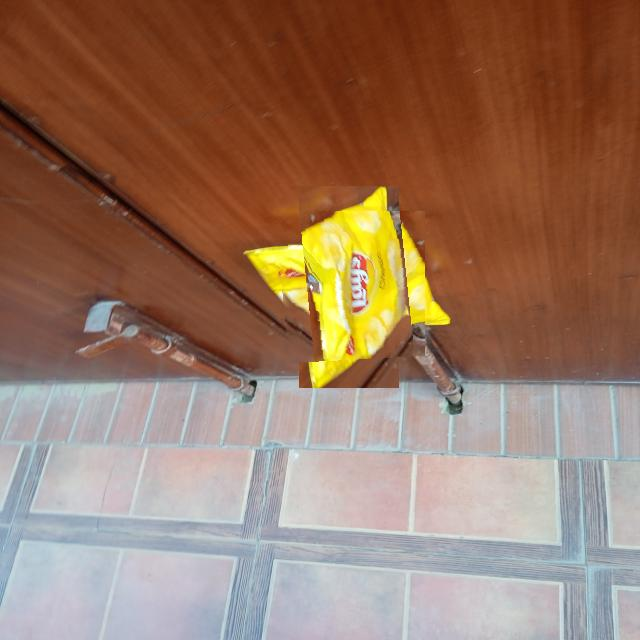Plastic: (274, 211, 425, 363)
